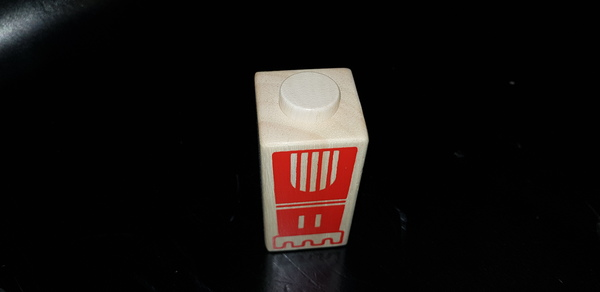tourRouge: (262, 95, 353, 255)
